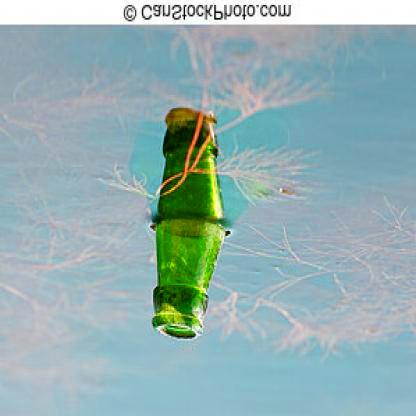Glass: (150, 217, 224, 346)
